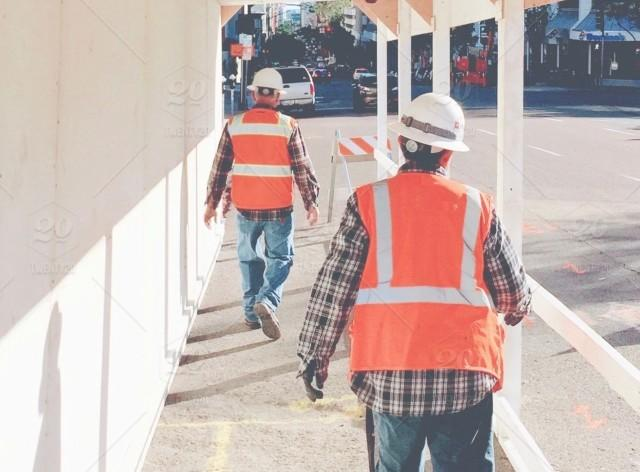helmet: (387, 92, 471, 155), (247, 70, 290, 96)
